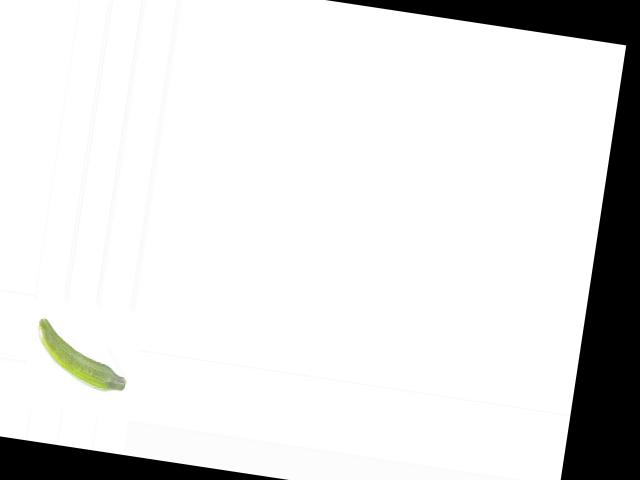cucumber: (30, 316, 135, 394)
